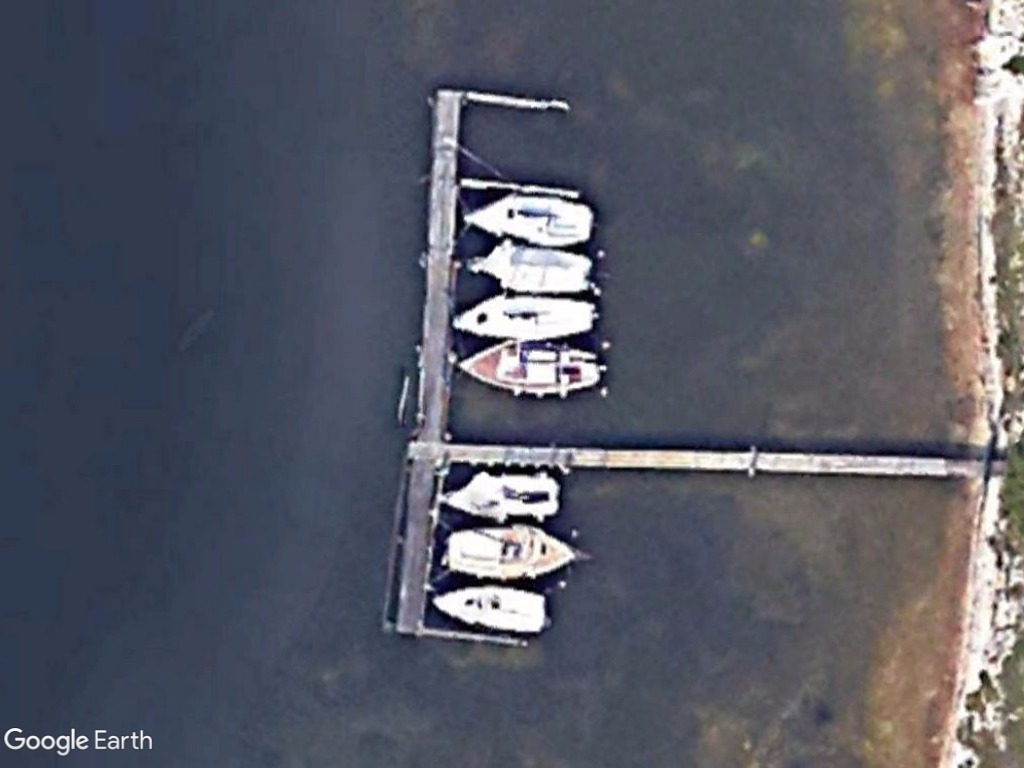boat: (430, 521, 591, 589), (458, 182, 598, 249), (452, 340, 610, 398), (444, 290, 601, 347), (459, 240, 604, 300), (422, 576, 550, 640), (436, 467, 569, 525)
